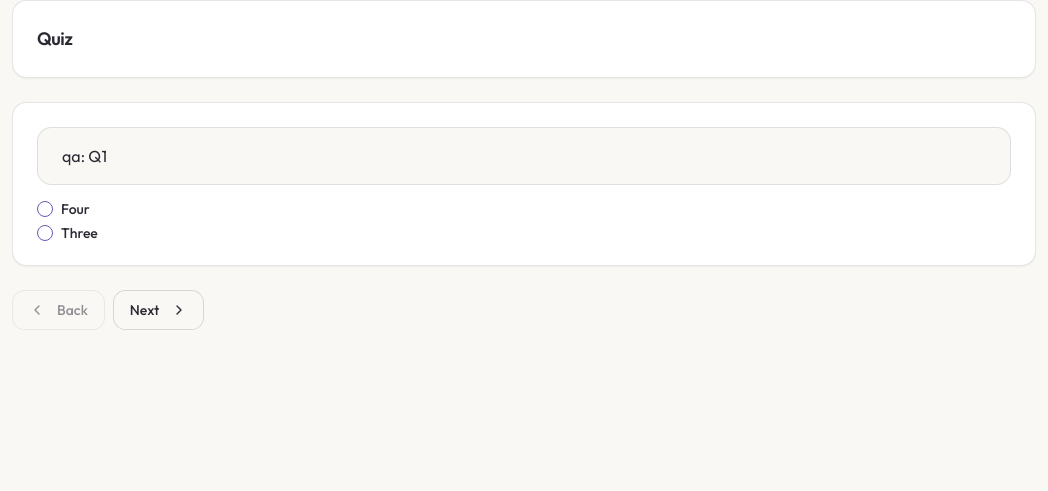
Test: InlineQuizPlayer ordering and recovery › retake never writes the previous attempt's answers into the new attempt
The width and height of the screenshot is (1048, 491).
Later steps or results of the test are not shown.
Click the radio button named "Four" next to "Four": (45, 209) [37,201,53,217]
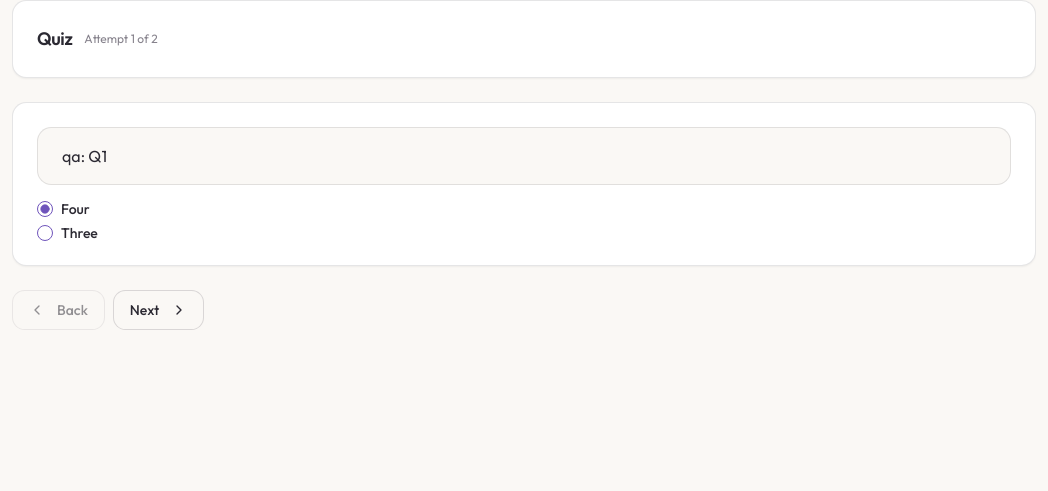
Click the button "Next": (159, 310) [113,290,204,330]
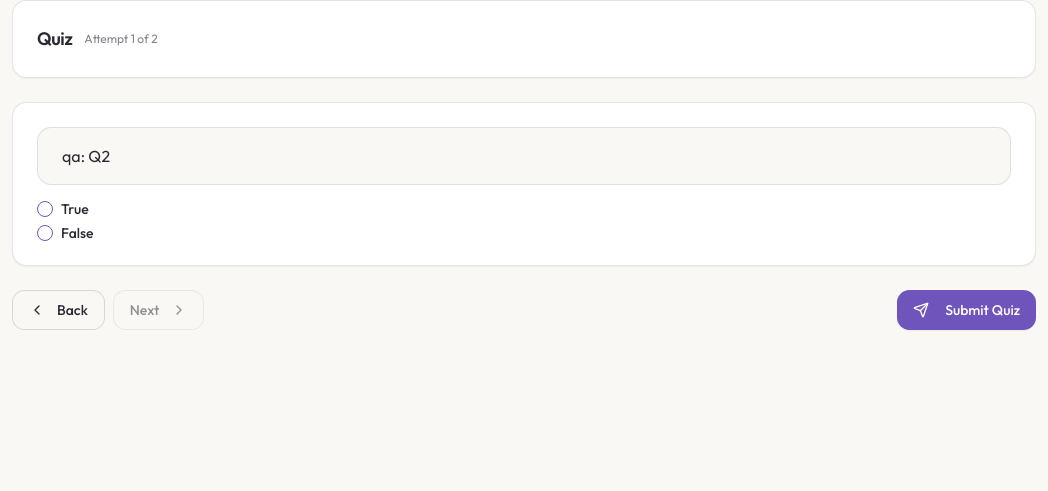
Click the radio button named "True" next to "True": (45, 209) [37,201,53,217]
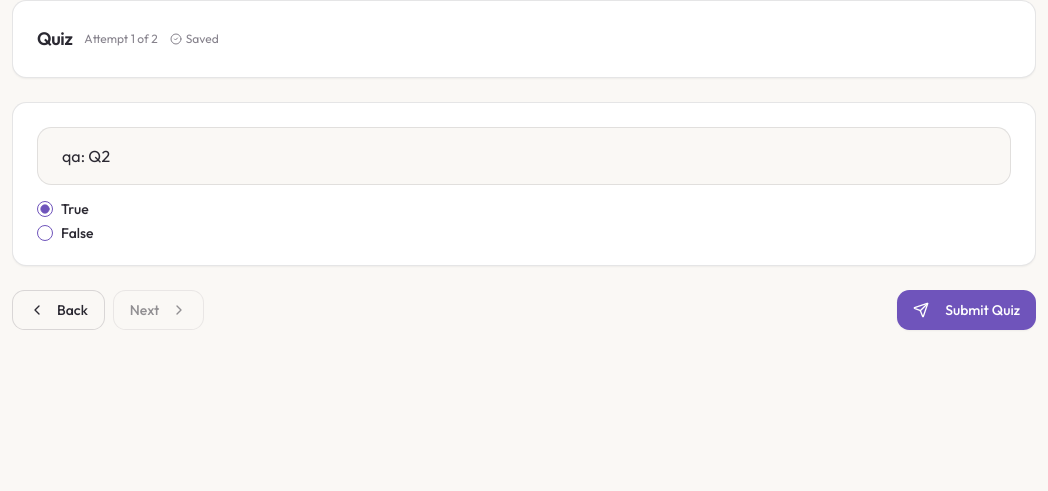
Click the button "Submit Quiz": (967, 310) [897,290,1036,330]
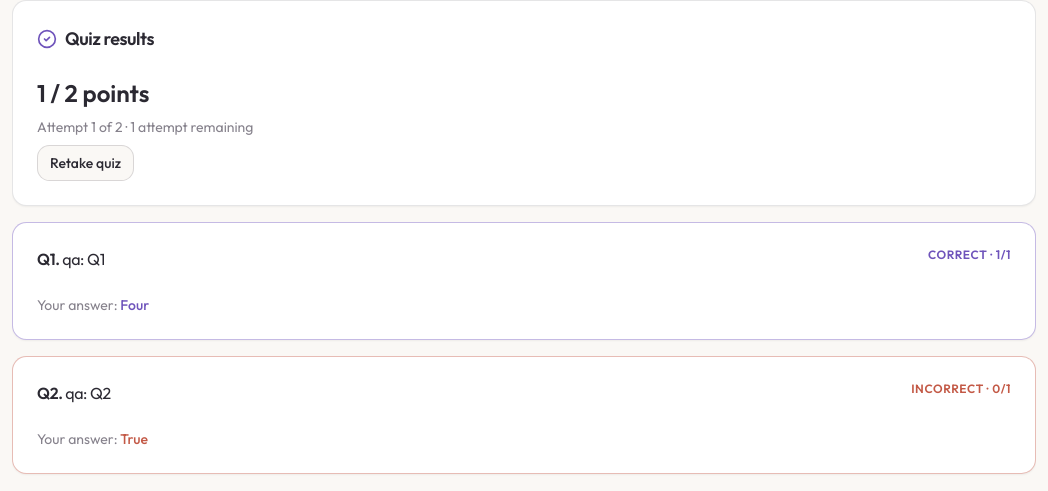
Click the button "Retake quiz": (86, 163) [37,145,134,181]
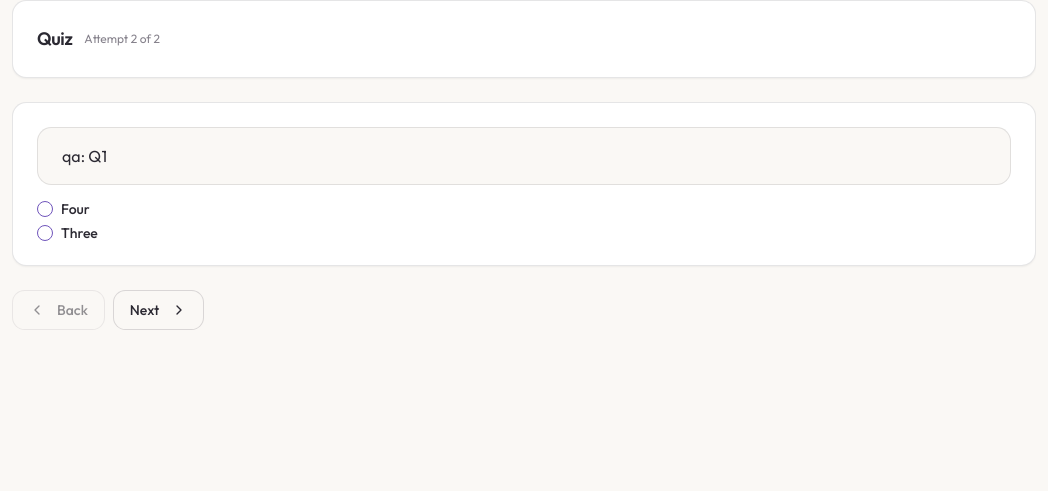
Result: the text "Attempt 2 of 2" is shown at [84,31,160,47]
